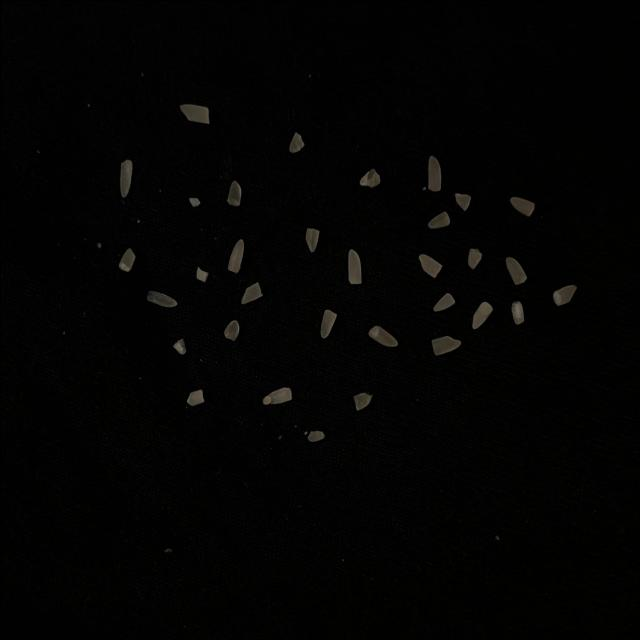Broken: (430, 334, 460, 356), (367, 324, 397, 346), (180, 103, 210, 124), (504, 256, 526, 284), (471, 301, 492, 329), (146, 288, 177, 306), (418, 252, 440, 277), (508, 195, 534, 216), (227, 238, 243, 272), (262, 386, 292, 404), (552, 283, 576, 305), (116, 246, 136, 272), (347, 248, 361, 284), (426, 155, 440, 191), (240, 281, 262, 303), (320, 308, 336, 338), (431, 290, 453, 310), (357, 168, 379, 187), (426, 210, 449, 228), (226, 180, 241, 207), (352, 392, 372, 409), (305, 228, 319, 252), (510, 300, 524, 324), (288, 131, 303, 153), (466, 246, 481, 268), (222, 318, 238, 338), (186, 388, 203, 406), (454, 191, 470, 209), (172, 337, 186, 354), (195, 266, 208, 282), (306, 430, 324, 441), (187, 196, 200, 206)
Full: (118, 158, 132, 196)
